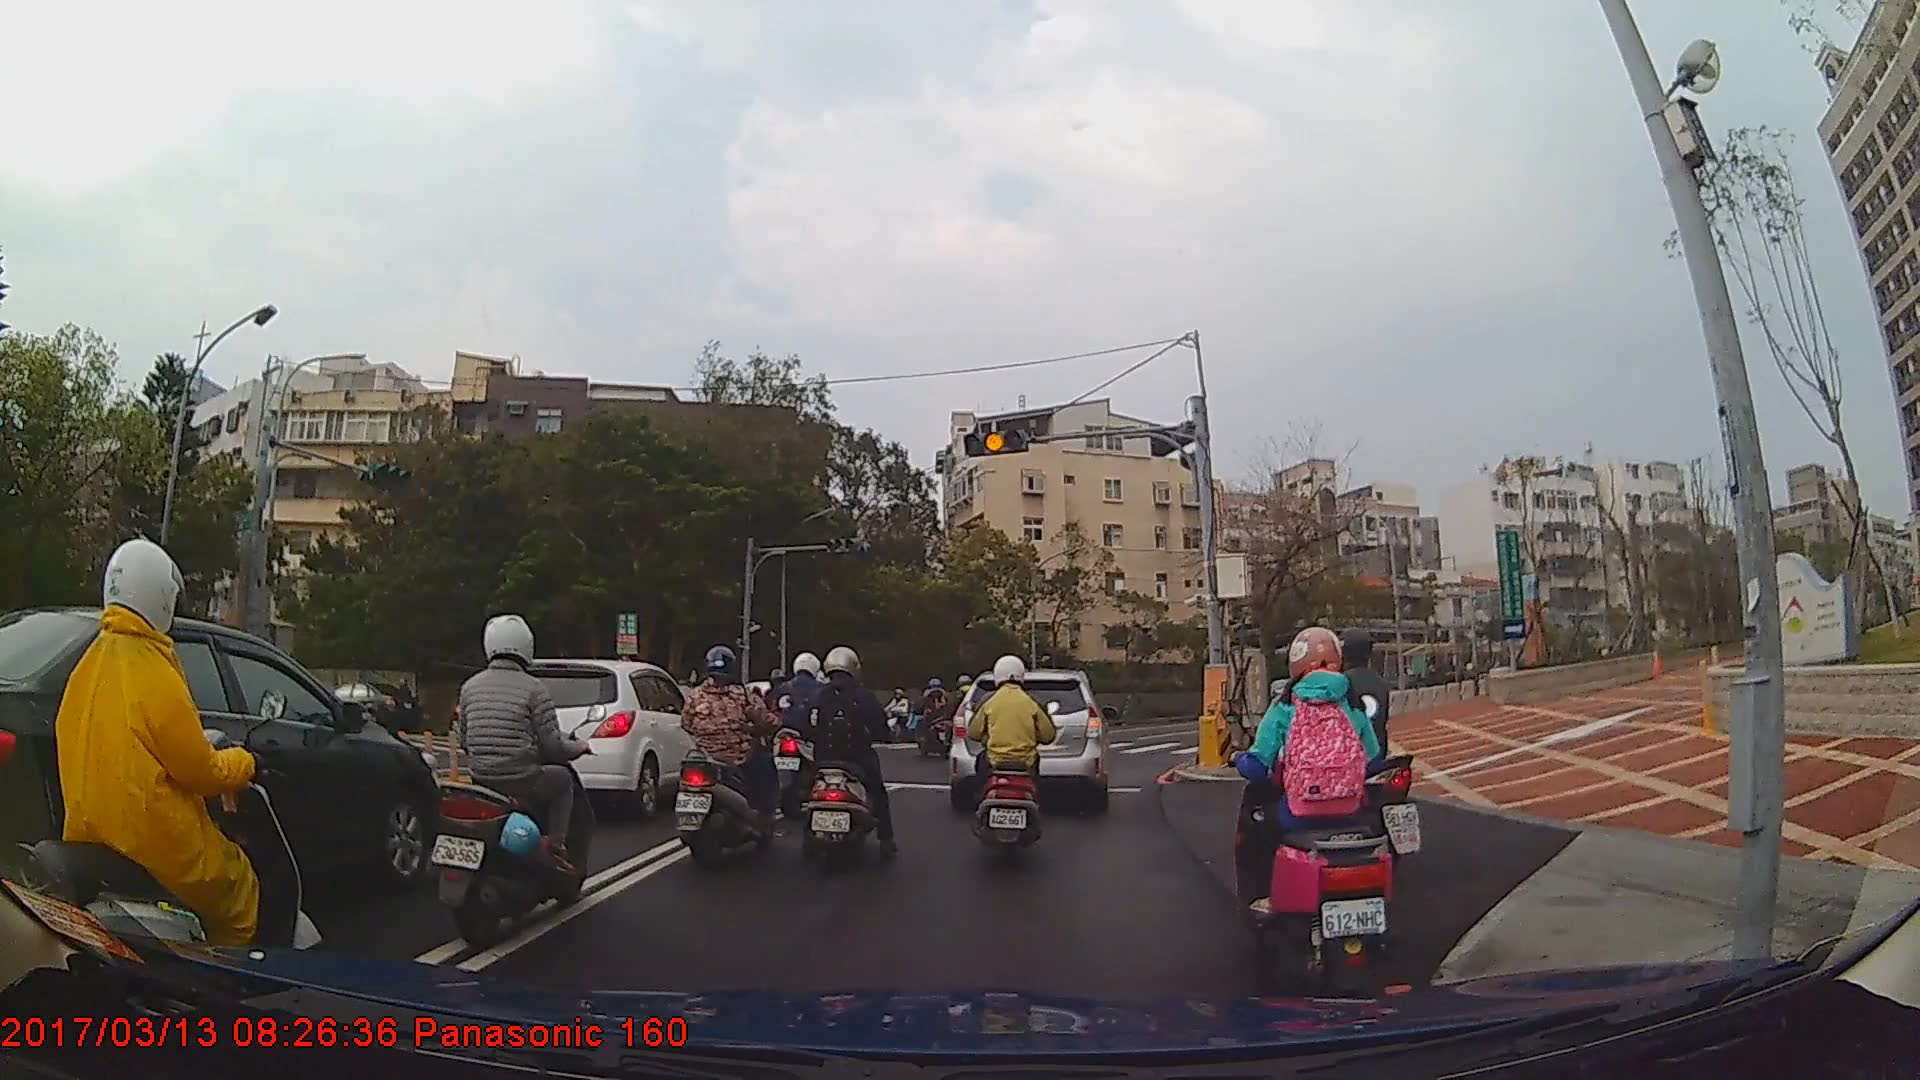rider: (19, 537, 326, 1014), (423, 610, 602, 953), (1233, 630, 1400, 974), (670, 642, 787, 874), (791, 640, 899, 871), (968, 652, 1061, 858), (765, 650, 835, 818), (931, 671, 990, 768), (907, 675, 962, 758)
vehicle: (0, 601, 444, 947), (480, 659, 719, 822), (945, 668, 1111, 812), (314, 679, 422, 732)
